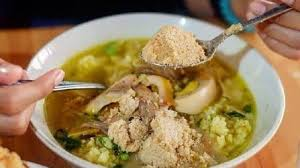soto: (25, 16, 276, 168)
